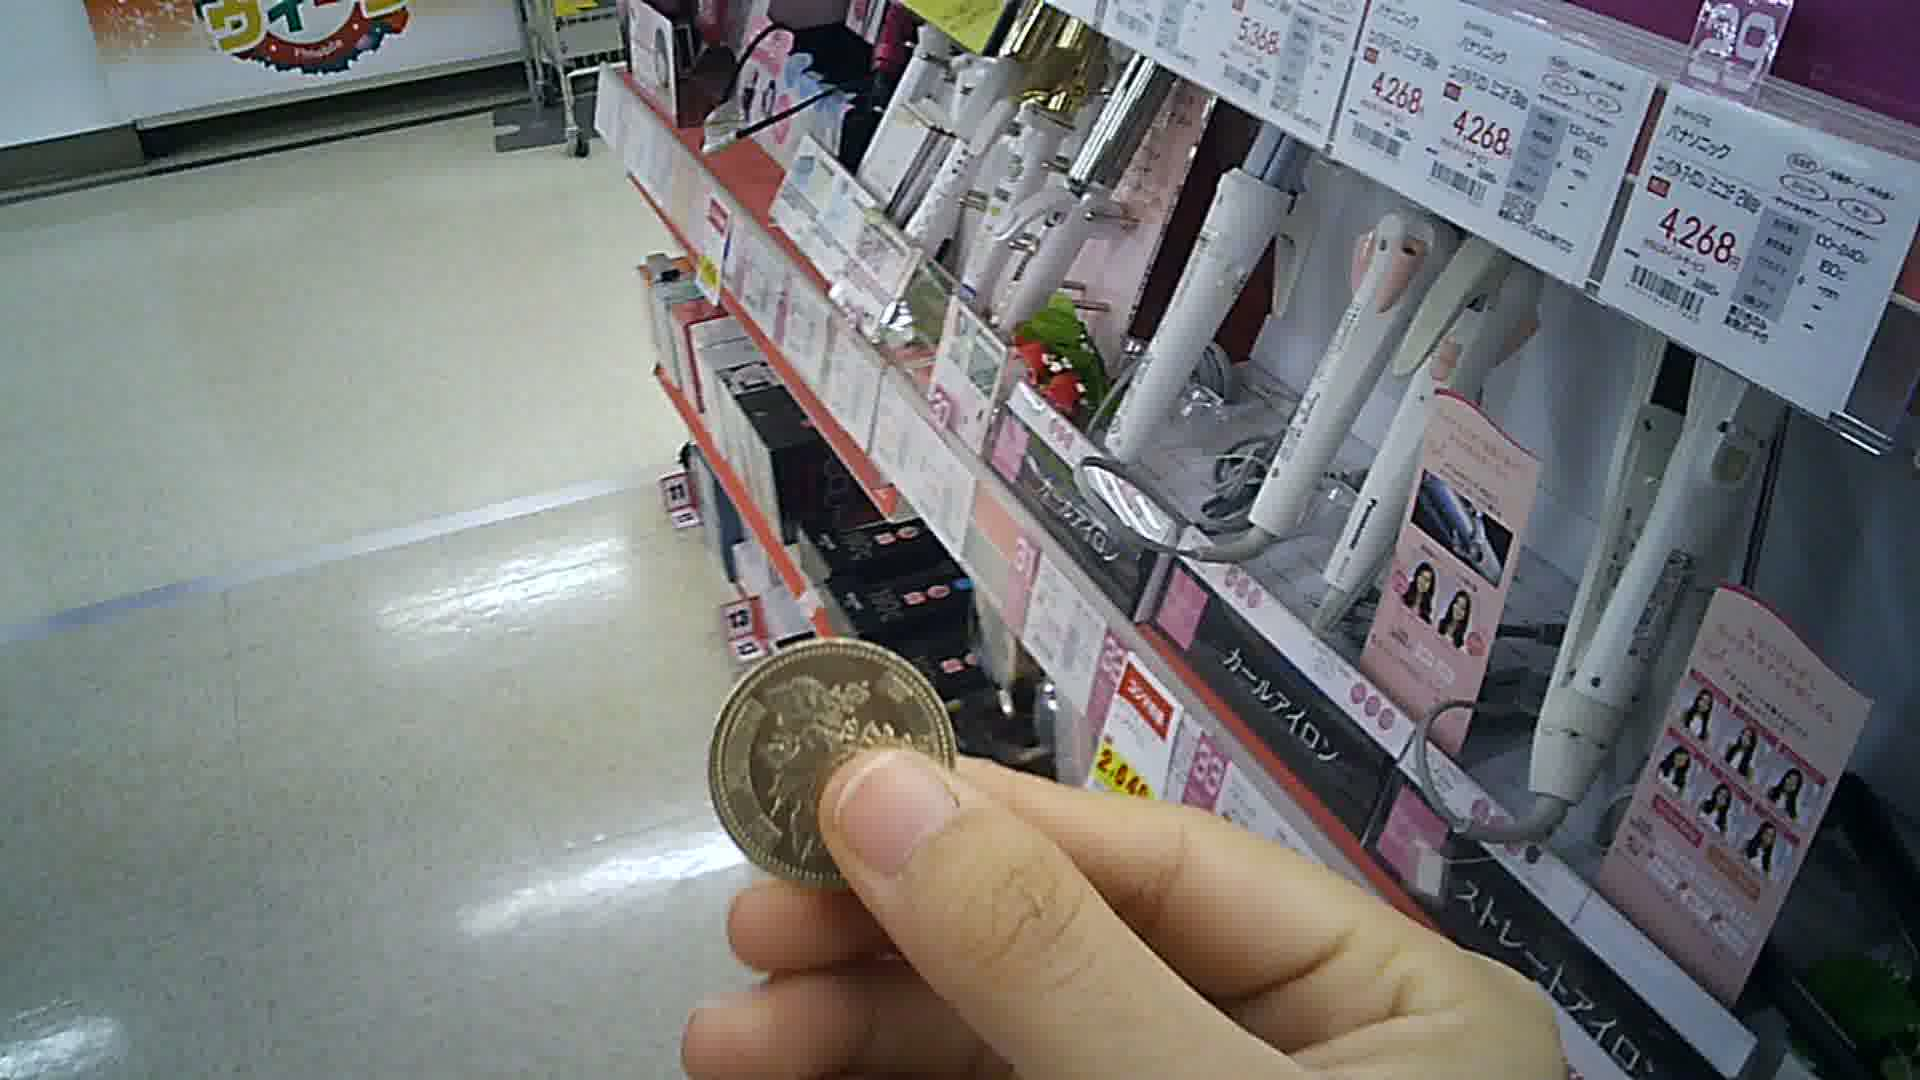500 Yen: (709, 636, 961, 891)
